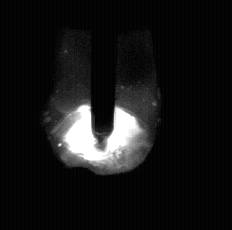arame: (92, 0, 116, 150)
poca: (44, 0, 156, 230)
